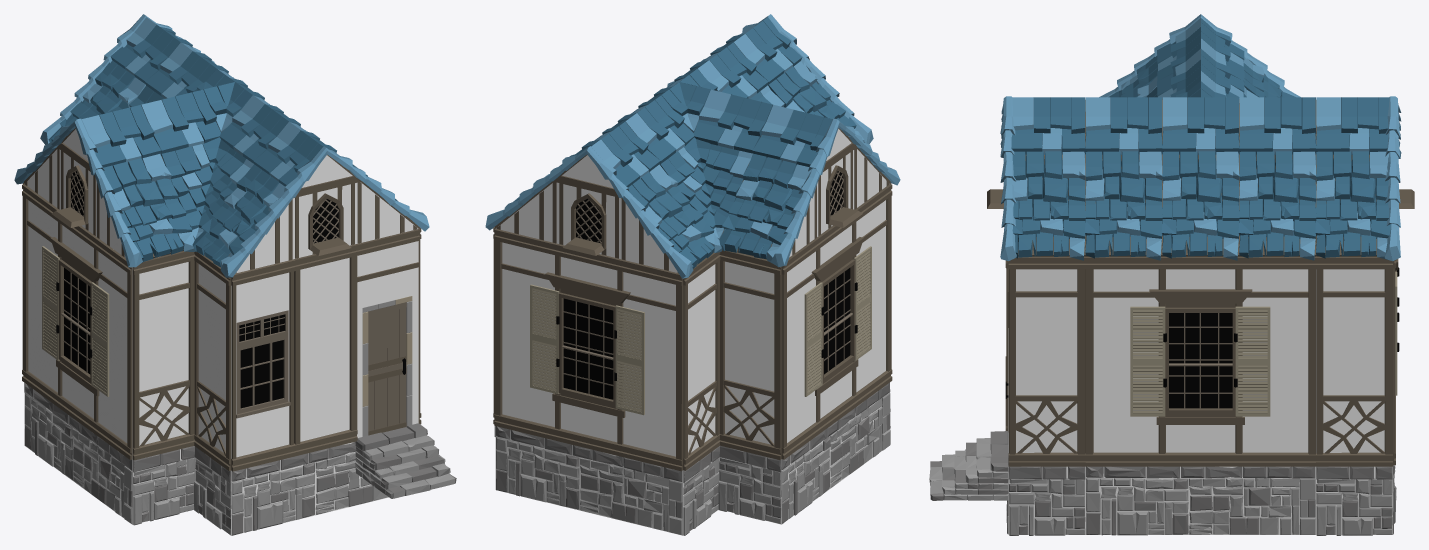
File: house_05_full.glb
3 views of the same model, side by side, from view 1: azimuth 30°, elevation 25°; view 2: azimuth 150°, elevation 25°; view 3: azimuth 270°, elevation 25° (orthographic). The views are drawn at different scales.
Parts seen in each view (by area): view 1: WINDOW_07_3, WALL_03_3, WINDOW_04_3, WALL_04_4, DOOR_02_2, FOUNDATION_02_10, WALL_04_3, FOUNDATION_02_11, ROOF_base_6, STAIRS_01_6, ROOF_inner_corner_3, ROOF_base_5 (+24 smaller); view 2: WINDOW_07_4, WINDOW_07_3, WALL_04_5, FOUNDATION_02_12, WALL_04_6, FOUNDATION_02_11, ROOF_base_11, ROOF_inner_corner_4, ROOF_base_10, FOUNDATION_03_8, ROOF_triangle_window_grid_8, ROOF_base_small_16 (+20 smaller); view 3: WINDOW_07_5, WALL_04_8, WALL_04_7, FOUNDATION_02_13, ROOF_base_7, ROOF_base_4, ROOF_base_8, ROOF_base_9, ROOF_base_3, FOUNDATION_03_11, FOUNDATION_03_10, STAIRS_01_6 (+16 smaller).
Part boxes in pixels (left/top/right/bottom): WINDOW_07_3: left=22, top=184, right=132, bottom=459; WALL_03_3: left=294, top=244, right=357, bottom=456; WINDOW_04_3: left=231, top=259, right=295, bottom=471; WALL_04_4: left=133, top=251, right=194, bottom=460; DOOR_02_2: left=356, top=229, right=420, bottom=437; FOUNDATION_02_10: left=231, top=442, right=388, bottom=535; WALL_04_3: left=194, top=251, right=231, bottom=470; FOUNDATION_02_11: left=24, top=383, right=133, bottom=524; ROOF_base_6: left=103, top=154, right=195, bottom=262; STAIRS_01_6: left=355, top=423, right=456, bottom=498; ROOF_inner_corner_3: left=161, top=137, right=253, bottom=239; ROOF_base_5: left=192, top=164, right=286, bottom=268; WINDOW_07_4: left=494, top=229, right=682, bottom=471; WINDOW_07_3: left=781, top=184, right=892, bottom=459; WALL_04_5: left=719, top=250, right=781, bottom=459; FOUNDATION_02_12: left=495, top=426, right=683, bottom=535; WALL_04_6: left=683, top=252, right=720, bottom=470; FOUNDATION_02_11: left=781, top=383, right=890, bottom=523; ROOF_base_11: left=719, top=153, right=811, bottom=264; ROOF_inner_corner_4: left=660, top=137, right=752, bottom=239; ROOF_base_10: left=628, top=164, right=721, bottom=268; FOUNDATION_03_8: left=718, top=445, right=782, bottom=524; ROOF_triangle_window_grid_8: left=558, top=183, right=620, bottom=258; ROOF_base_small_16: left=693, top=89, right=772, bottom=153; WINDOW_07_5: left=1085, top=256, right=1315, bottom=466; WALL_04_8: left=1008, top=256, right=1085, bottom=466; WALL_04_7: left=1316, top=256, right=1392, bottom=466; FOUNDATION_02_13: left=1085, top=466, right=1315, bottom=535; ROOF_base_7: left=1161, top=151, right=1239, bottom=260; ROOF_base_4: left=1084, top=150, right=1162, bottom=260; ROOF_base_8: left=1238, top=151, right=1316, bottom=260; ROOF_base_9: left=1315, top=151, right=1390, bottom=259; ROOF_base_3: left=1008, top=151, right=1085, bottom=260; FOUNDATION_03_11: left=1008, top=466, right=1085, bottom=535; FOUNDATION_03_10: left=1316, top=466, right=1392, bottom=535; STAIRS_01_6: left=929, top=431, right=1008, bottom=500.
Bounding box in the file's own units: 4.39 × 5.6 × 6.31.
1 material, 1 textured.
